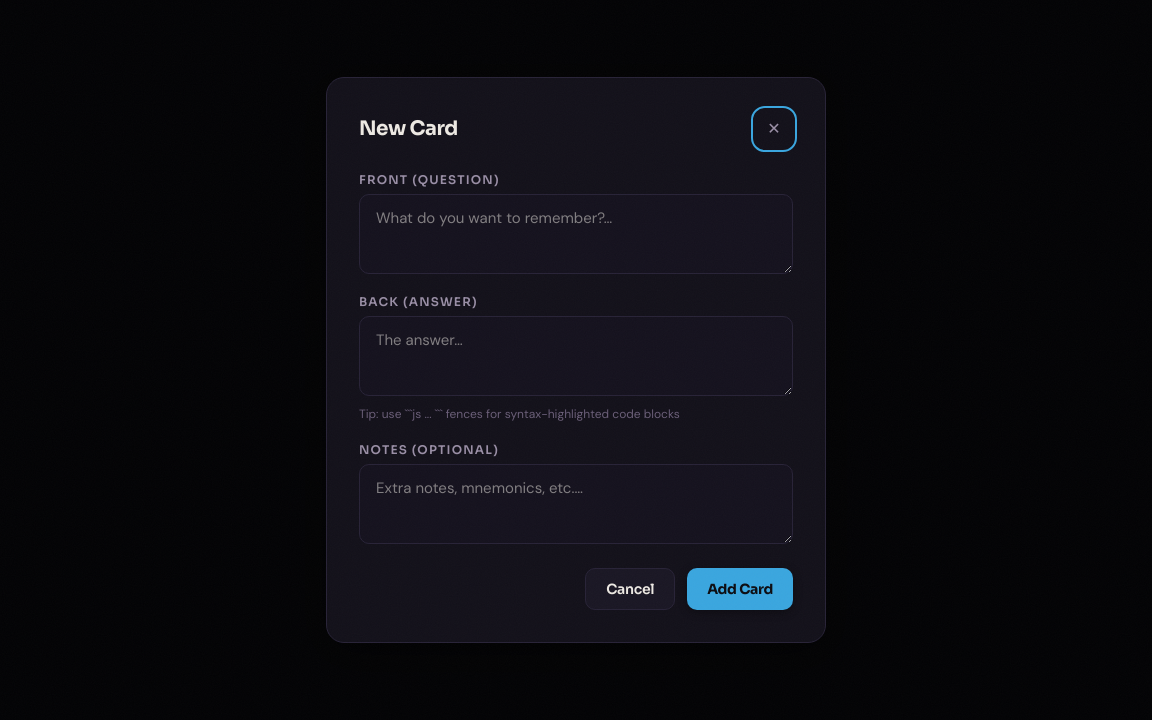
Scenario: CardModal › shows validation error when front is empty
The image size is (1152, 720).
Type "A1" into the text box labelled "Back (Answer)" at (576, 356), box x1=359 y1=316 x2=793 y2=396
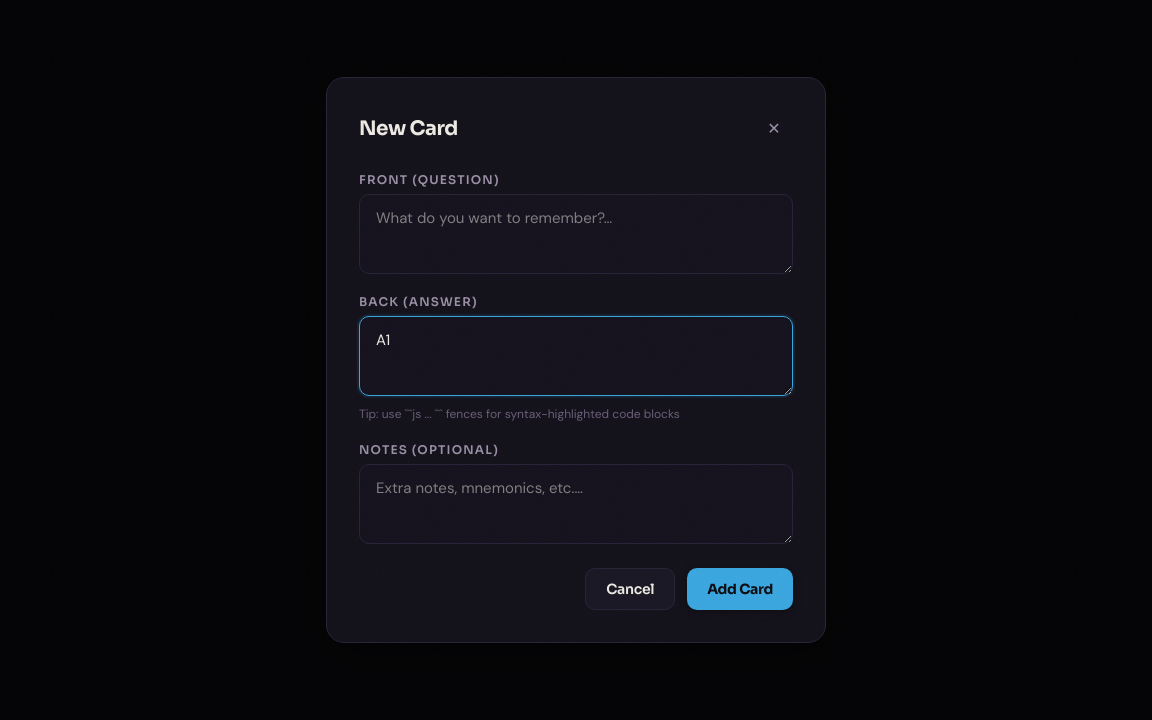
Click the button "Add Card" at (740, 589), box x1=687 y1=568 x2=793 y2=610
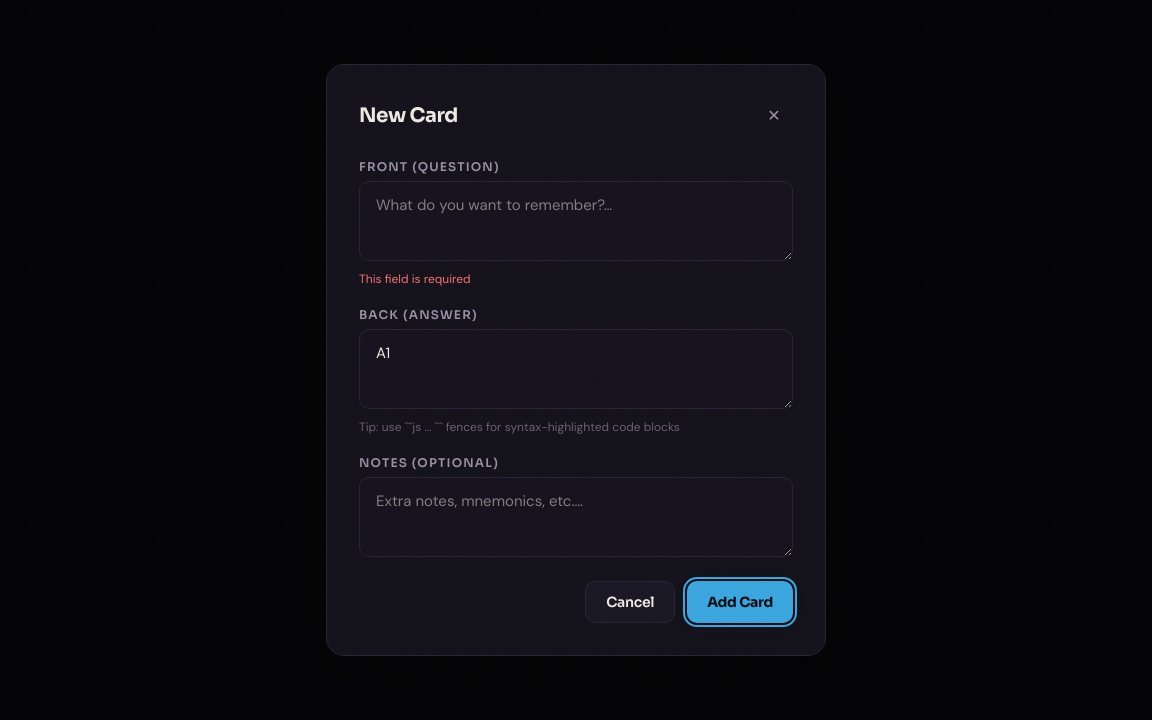
Expected: the text "This field is required" is shown, x1=359 y1=271 x2=471 y2=287
